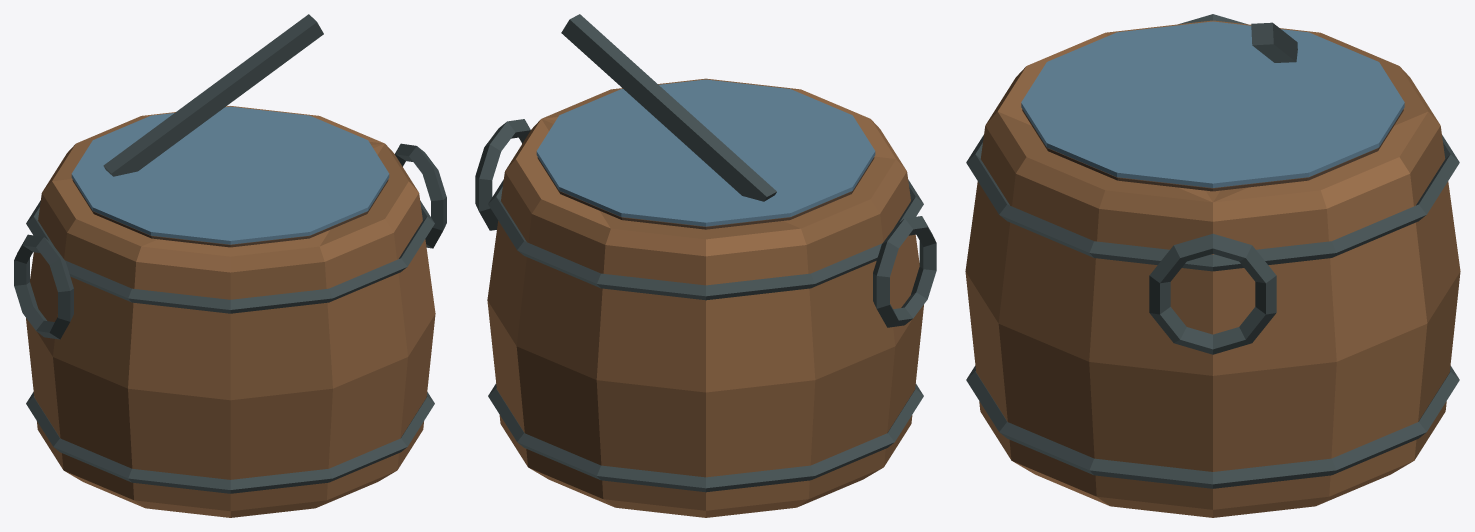
Rendered from quench_tub.glb.
The picture shows the model from 3 angles, left to right: view 1: azimuth 30°, elevation 25°; view 2: azimuth 150°, elevation 25°; view 3: azimuth 270°, elevation 25°; orthographic projection. The views are drawn at different scales.
Parts seen in each view (by area): view 1: geometry; view 2: geometry; view 3: geometry.
Boxes of the visible parts, x1=… form: geometry: x1=14, y1=14, x2=446, y2=517; geometry: x1=475, y1=14, x2=936, y2=517; geometry: x1=965, y1=14, x2=1460, y2=517.
Size of the model in its own units: 0.876 by 0.8367 by 0.8.
